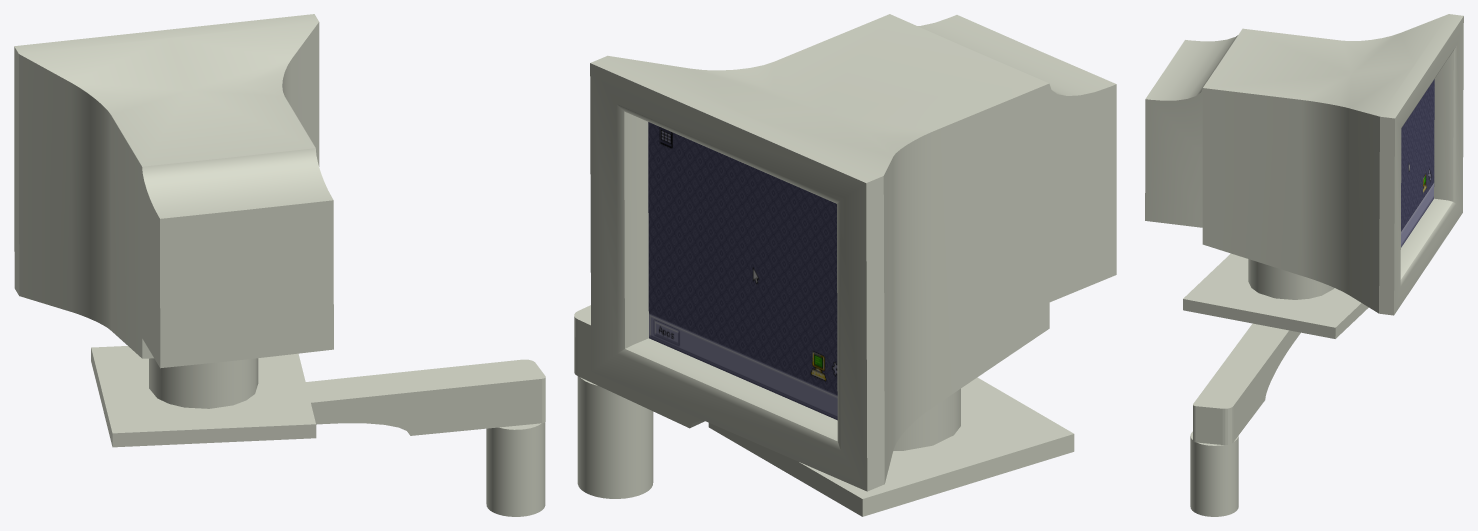
Rendered from monitor.fbx.
The picture shows the model from 3 angles, left to right: view 1: azimuth 30°, elevation 25°; view 2: azimuth 150°, elevation 25°; view 3: azimuth 270°, elevation 25°; orthographic projection. The views are drawn at different scales.
Visible parts, largest first — view 1: Monitor, MonitorStand, MonitorSecondKnee, MonitorFirstKnee; view 2: Monitor, MonitorStand, MonitorFirstKnee, MonitorSecondKnee; view 3: Monitor, MonitorStand, MonitorSecondKnee, MonitorFirstKnee.
Boxes of the visible parts, x1,y1,x2,y2 form: Monitor: (14,14,333,368); MonitorStand: (91,346,316,447); MonitorSecondKnee: (305,359,545,435); MonitorFirstKnee: (486,422,545,516); Monitor: (590,14,1116,491); MonitorStand: (708,377,1074,516); MonitorFirstKnee: (577,376,653,498); MonitorSecondKnee: (574,305,704,428); Monitor: (1145,14,1463,315); MonitorStand: (1183,253,1368,338); MonitorSecondKnee: (1193,323,1300,444); MonitorFirstKnee: (1190,431,1238,516).
Bounding box in the file's own units: 166 × 169 × 138.
